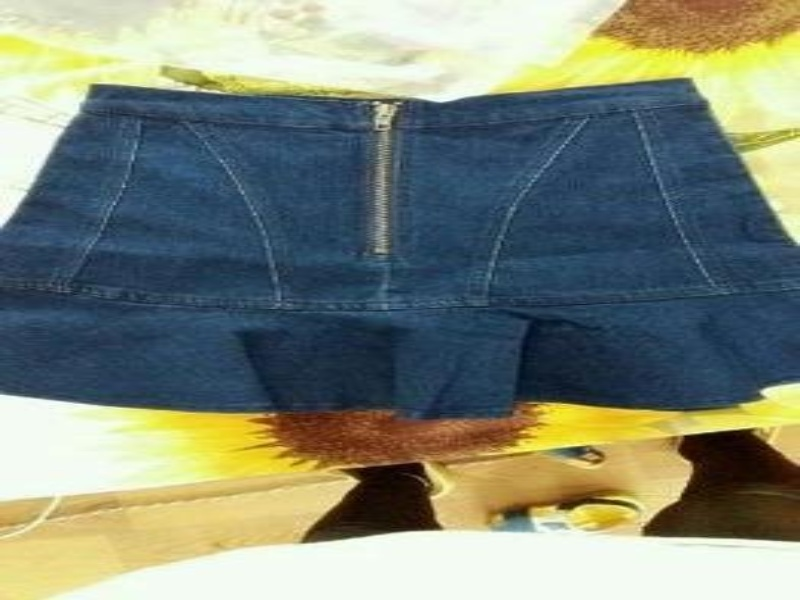skirt: (6, 77, 797, 426)
